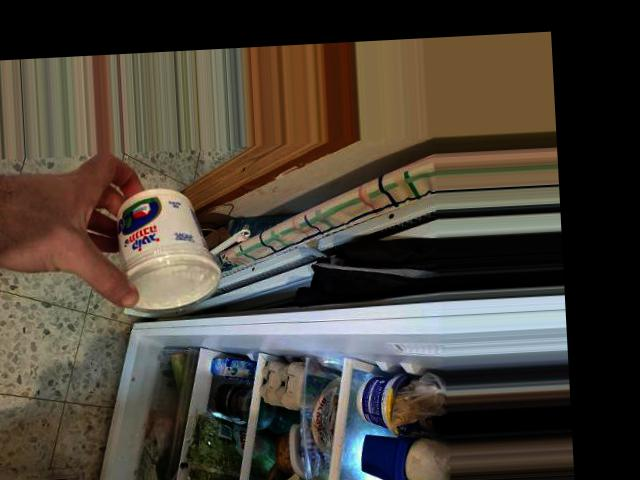cotage: (104, 180, 219, 309)
